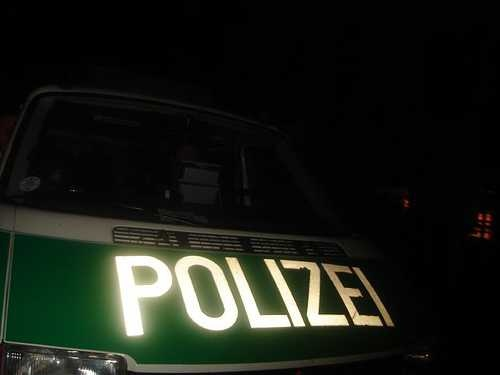Police Van: (27, 72, 495, 375)
